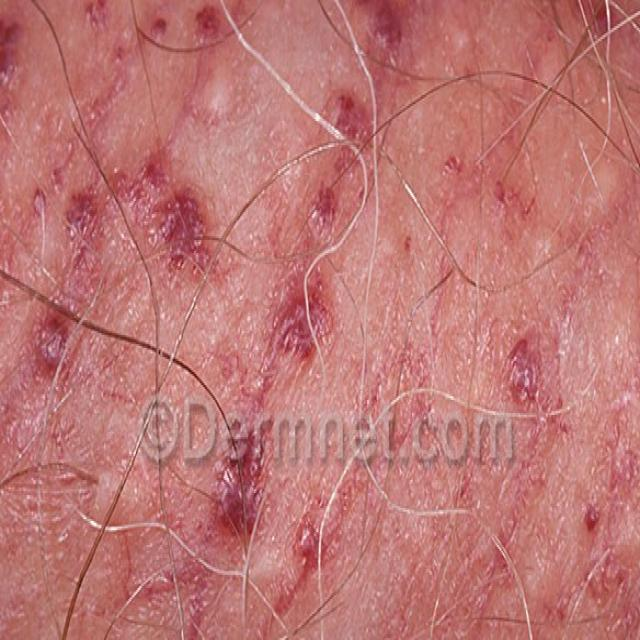Vascular Tumors: (0, 18, 640, 640)
